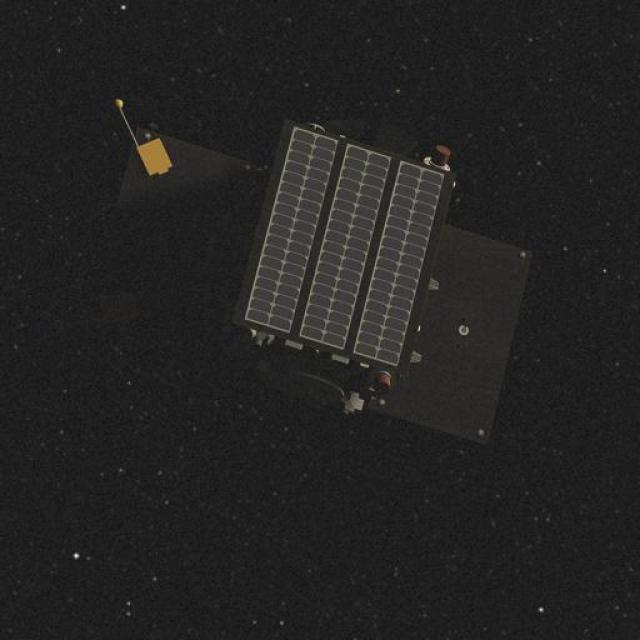proba_2: (116, 114, 476, 442)
